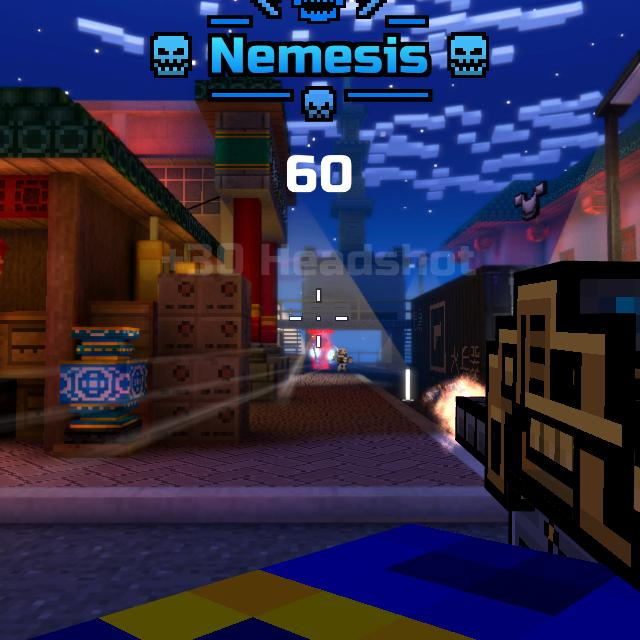Enemy: (311, 336, 329, 370)
